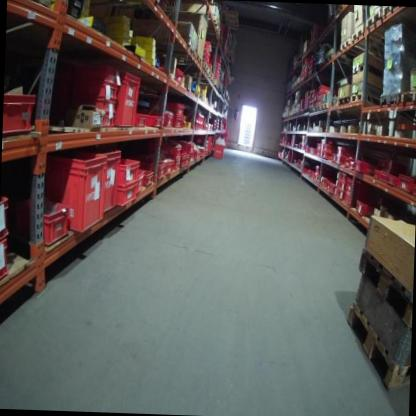pallet: (340, 310, 411, 394), (351, 246, 415, 331), (350, 92, 378, 105), (366, 9, 381, 30), (380, 94, 400, 108), (400, 89, 416, 105), (382, 6, 401, 19), (351, 27, 364, 44), (339, 37, 350, 52), (338, 95, 349, 107), (196, 50, 203, 67), (320, 102, 329, 112), (203, 61, 209, 75), (208, 68, 213, 82), (313, 104, 320, 113)
small_load_carrier: (42, 146, 113, 240), (87, 147, 121, 216), (114, 72, 144, 130), (3, 90, 42, 133), (41, 197, 69, 248), (113, 151, 143, 189), (68, 63, 122, 84), (68, 82, 120, 103), (112, 176, 141, 207), (0, 229, 13, 286), (156, 62, 185, 87), (70, 112, 115, 127), (70, 100, 118, 113), (159, 97, 187, 119), (136, 164, 155, 194), (153, 141, 183, 160), (147, 159, 167, 184), (352, 158, 373, 179), (354, 200, 375, 220), (133, 165, 148, 193), (398, 173, 413, 198), (0, 191, 7, 242), (345, 177, 363, 195), (137, 116, 157, 132), (147, 113, 164, 131), (160, 157, 174, 178), (211, 142, 227, 159), (165, 115, 183, 130), (342, 190, 357, 207), (161, 112, 175, 130), (178, 139, 194, 153), (337, 145, 354, 156), (179, 152, 190, 169), (333, 187, 346, 201), (334, 180, 347, 193), (335, 170, 349, 182), (349, 158, 359, 174), (171, 159, 181, 174), (323, 143, 338, 152), (193, 149, 202, 163), (321, 150, 333, 160), (340, 157, 350, 167), (387, 175, 396, 186), (327, 183, 336, 194), (320, 178, 331, 187), (381, 171, 388, 182), (346, 157, 351, 171)
